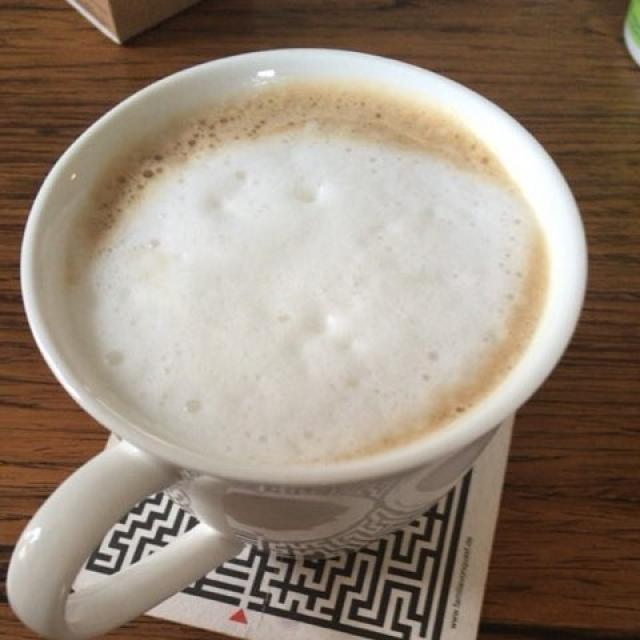cappuccino: (78, 90, 534, 457)
